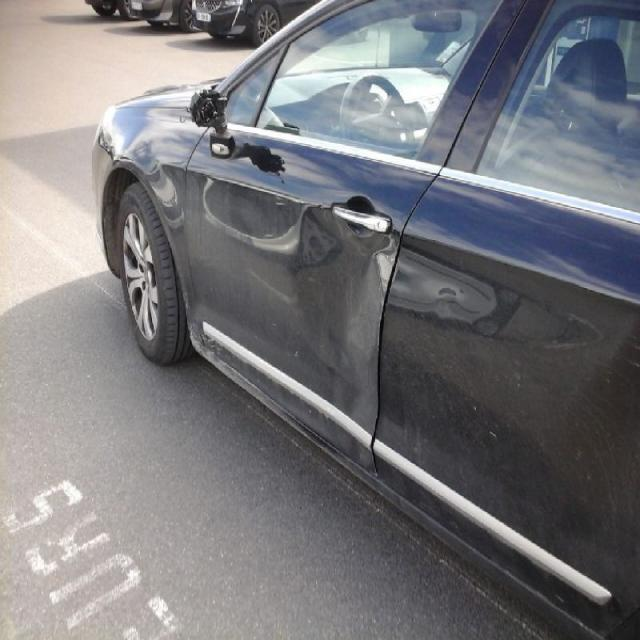porte-avant: (213, 2, 516, 485)
